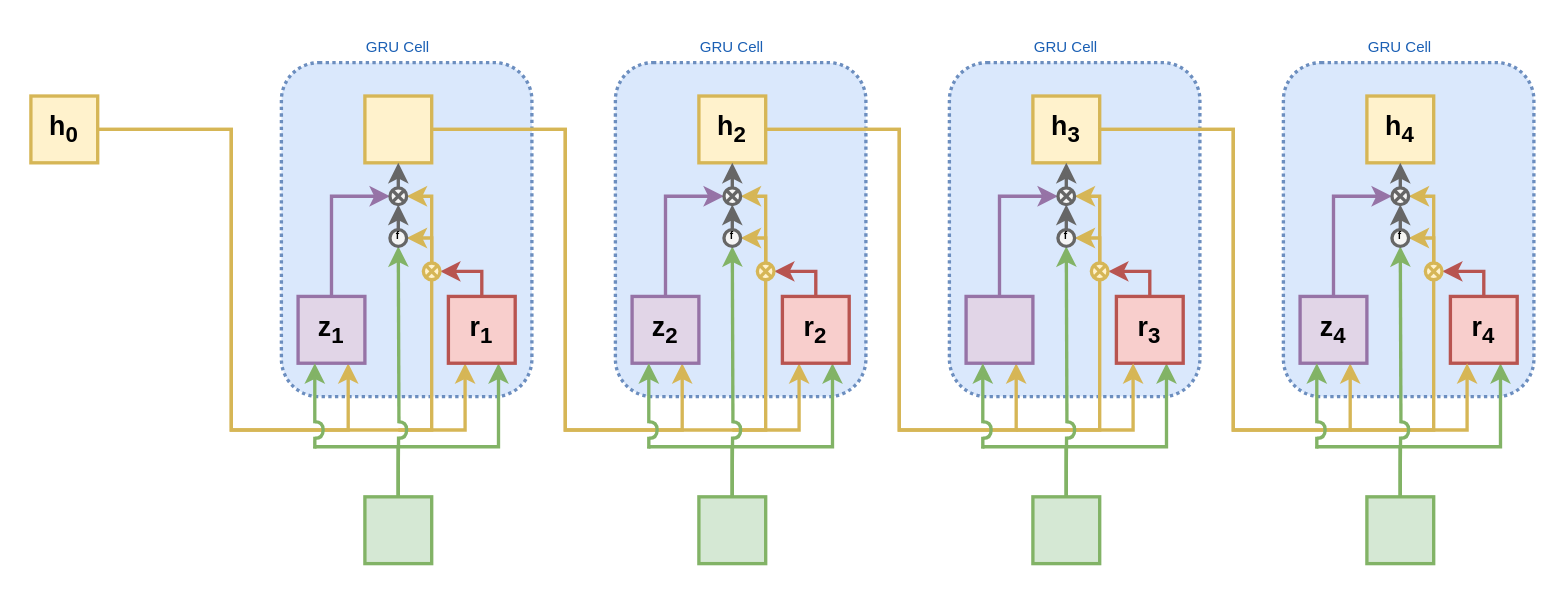
This 1563x593 diagram has some shape labels left out. Each missing label, with the centre of its shape:
h 1: the point at 397,129
x 1: the point at 397,529
x 2: the point at 731,529
x 3: the point at 1065,529
x 4: the point at 1399,529
z 3: the point at 999,329
